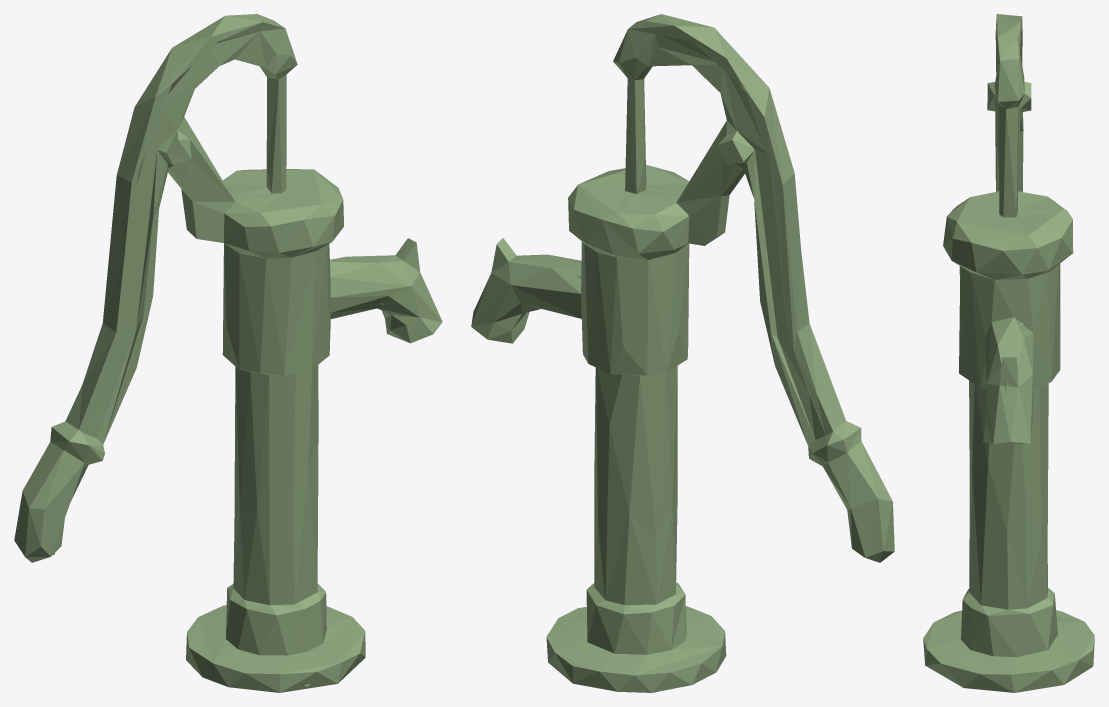
Rendered from ENV_09_PUMP_game.glb.
3 renders of one model, left to right at view 1: azimuth 30°, elevation 25°; view 2: azimuth 150°, elevation 25°; view 3: azimuth 270°, elevation 25°, orthographic. The views are drawn at different scales.
Visible parts, largest first — view 1: ENV_09_PUMP; view 2: ENV_09_PUMP; view 3: ENV_09_PUMP.
Part boxes in pixels (<box>): ENV_09_PUMP: <box>14,14,442,692</box>; ENV_09_PUMP: <box>471,14,894,692</box>; ENV_09_PUMP: <box>923,14,1094,692</box>.
Size of the model in its own units: 0.9783 by 1.45 by 0.3669.
